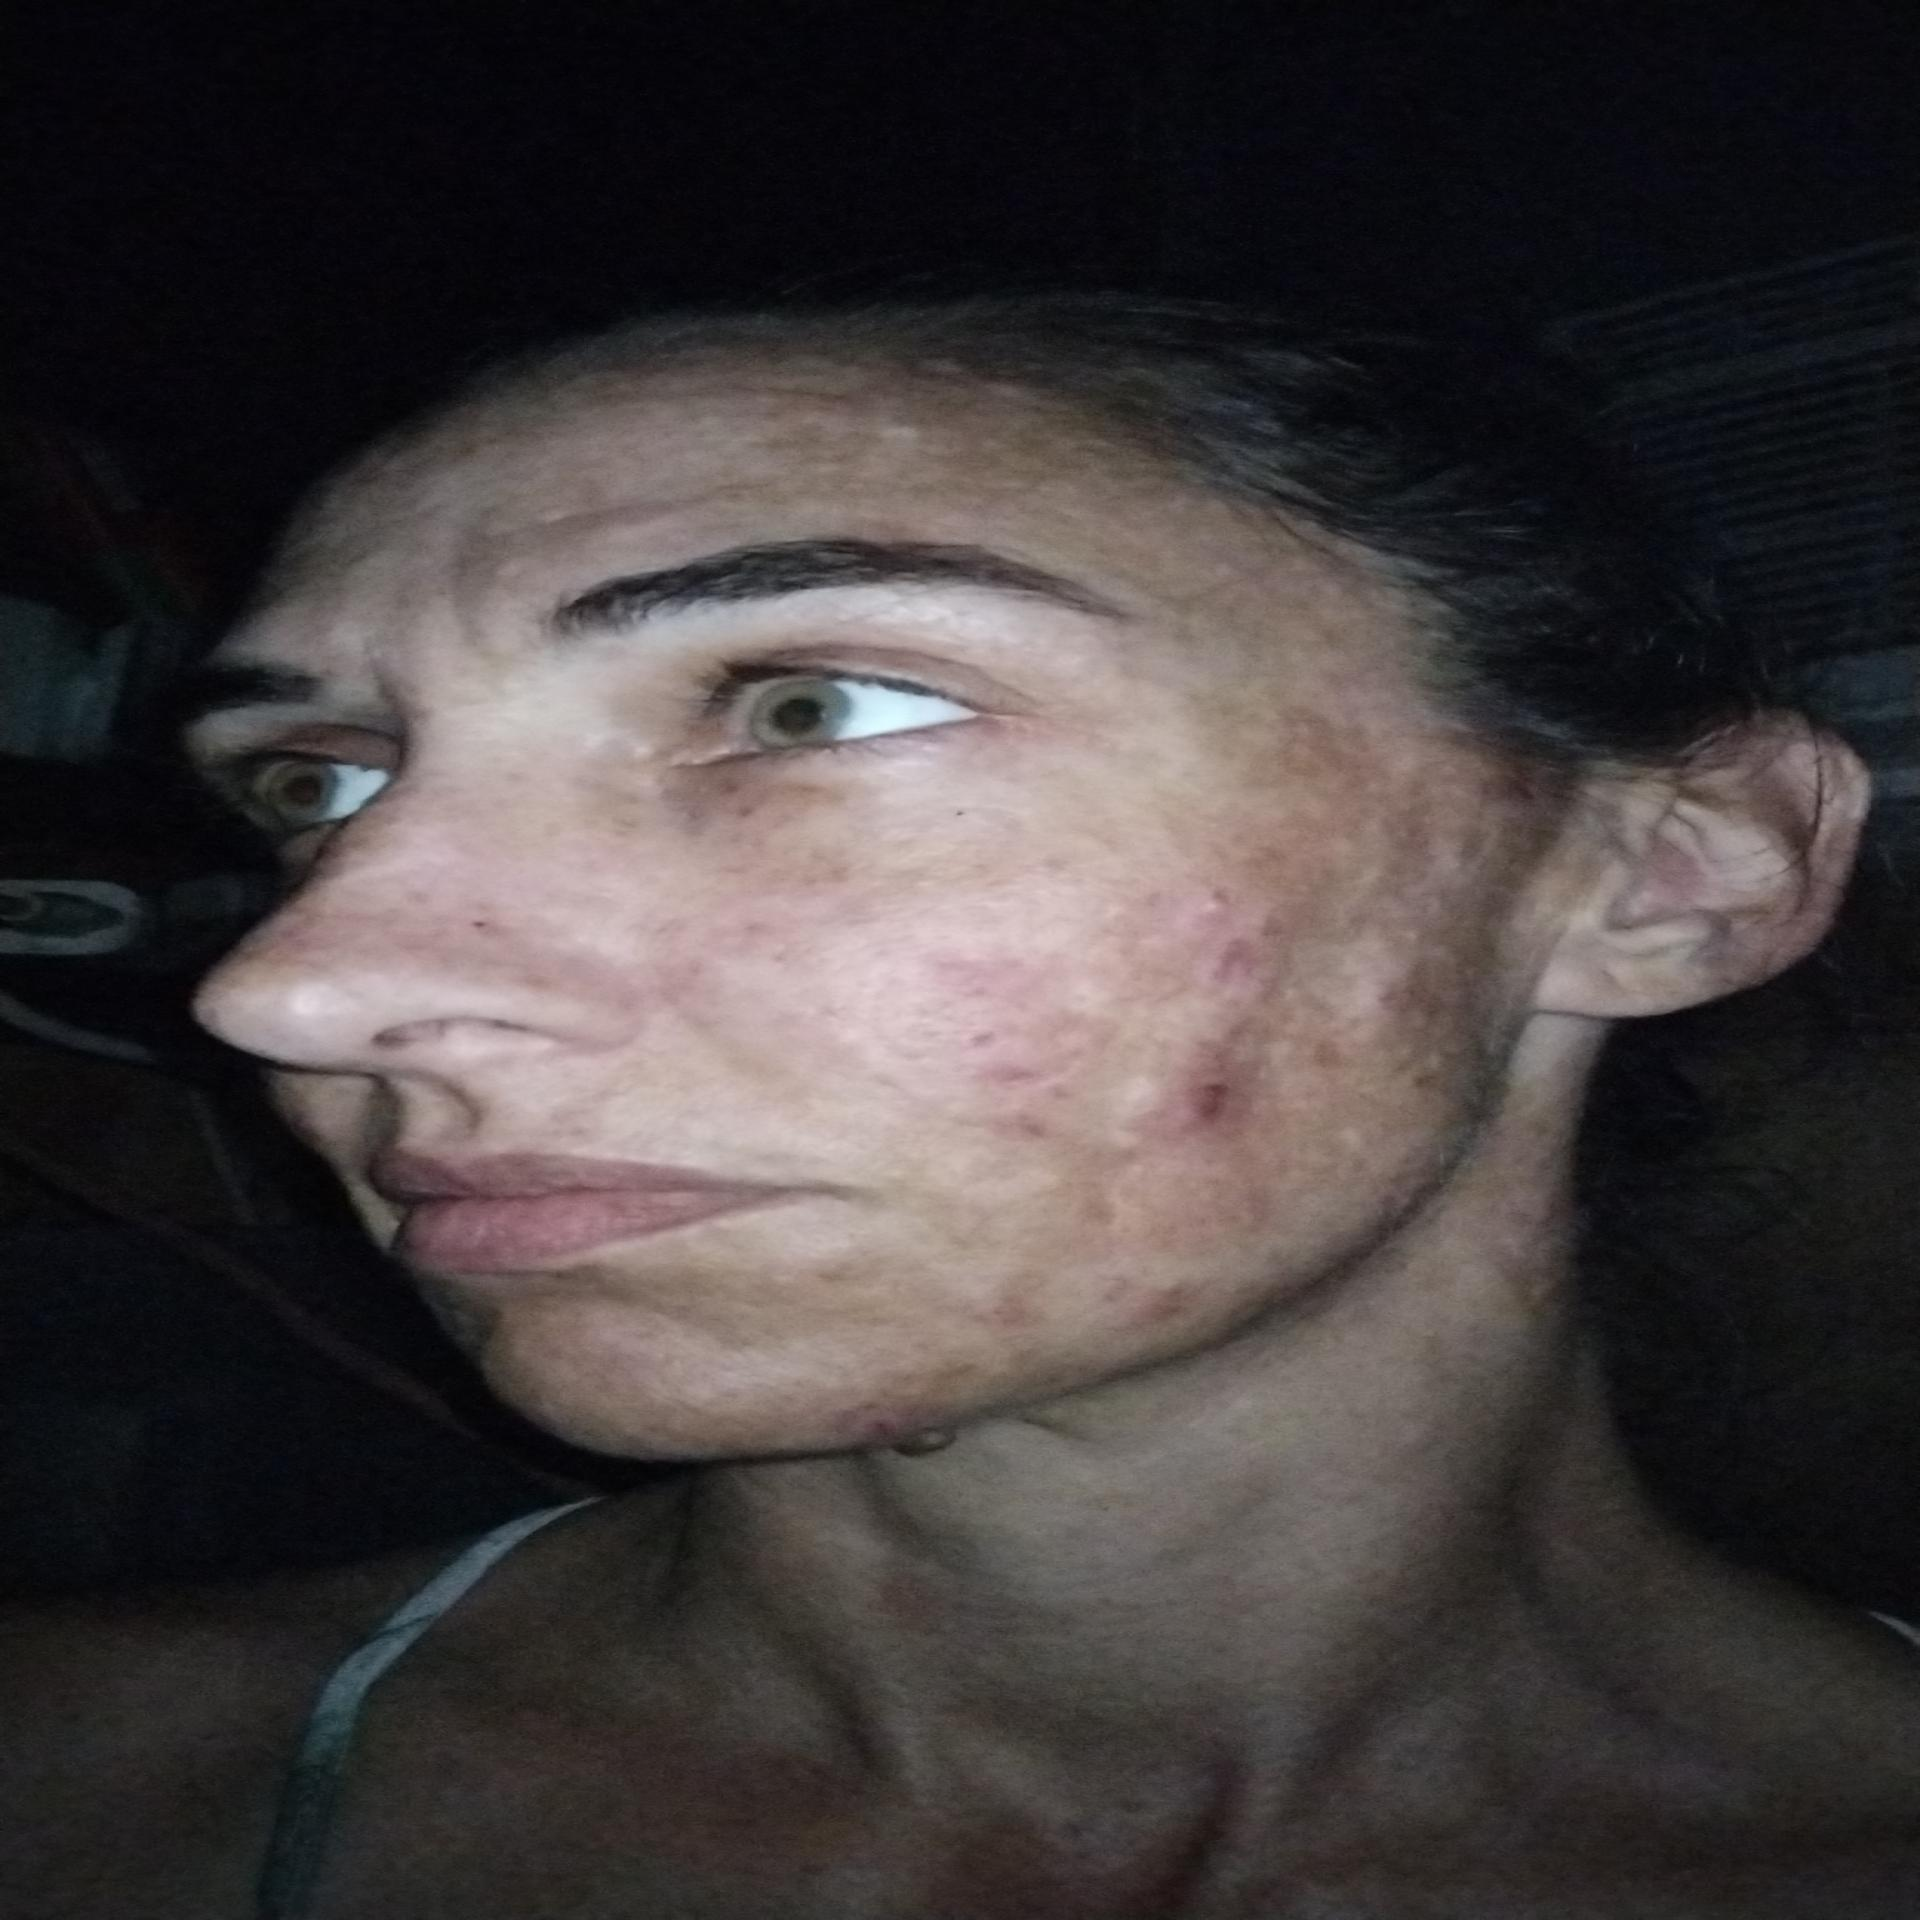Acne: (918, 948, 1039, 1000), (1350, 953, 1447, 1018), (1120, 1285, 1215, 1333), (1176, 1073, 1248, 1131), (962, 1058, 1083, 1092), (1192, 1011, 1257, 1067), (1196, 934, 1255, 990), (1071, 1187, 1134, 1227), (1013, 849, 1076, 890), (983, 1292, 1044, 1333), (1248, 902, 1292, 951), (1182, 877, 1243, 913), (1298, 1036, 1352, 1073), (658, 955, 712, 988), (942, 1020, 1002, 1048), (1011, 1108, 1064, 1139), (855, 1408, 904, 1442), (805, 1259, 863, 1284), (459, 914, 517, 937), (723, 916, 775, 941)
Wrinkles: (487, 487, 763, 540), (448, 564, 503, 668), (285, 505, 425, 543), (410, 691, 517, 721)
